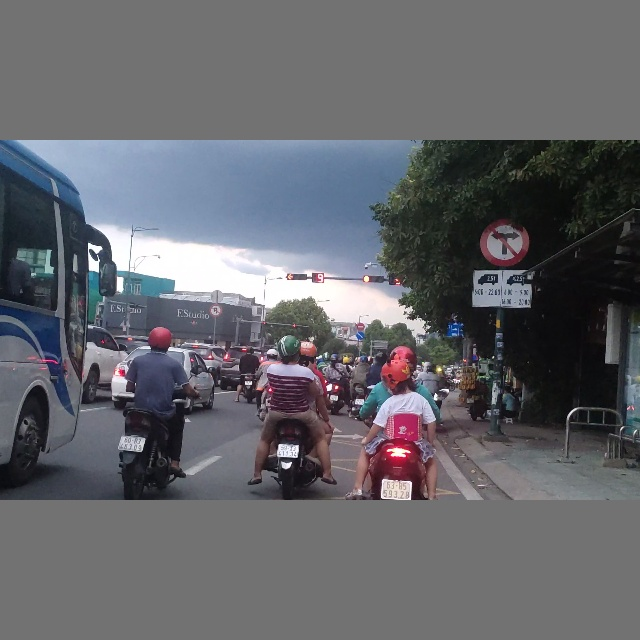P.102: (356, 322, 365, 331)
P.124a*: (209, 304, 222, 317)
P.137: (479, 217, 530, 267)
R.302a: (356, 331, 364, 340)
S.505a*Xe tai: (471, 270, 533, 309)
